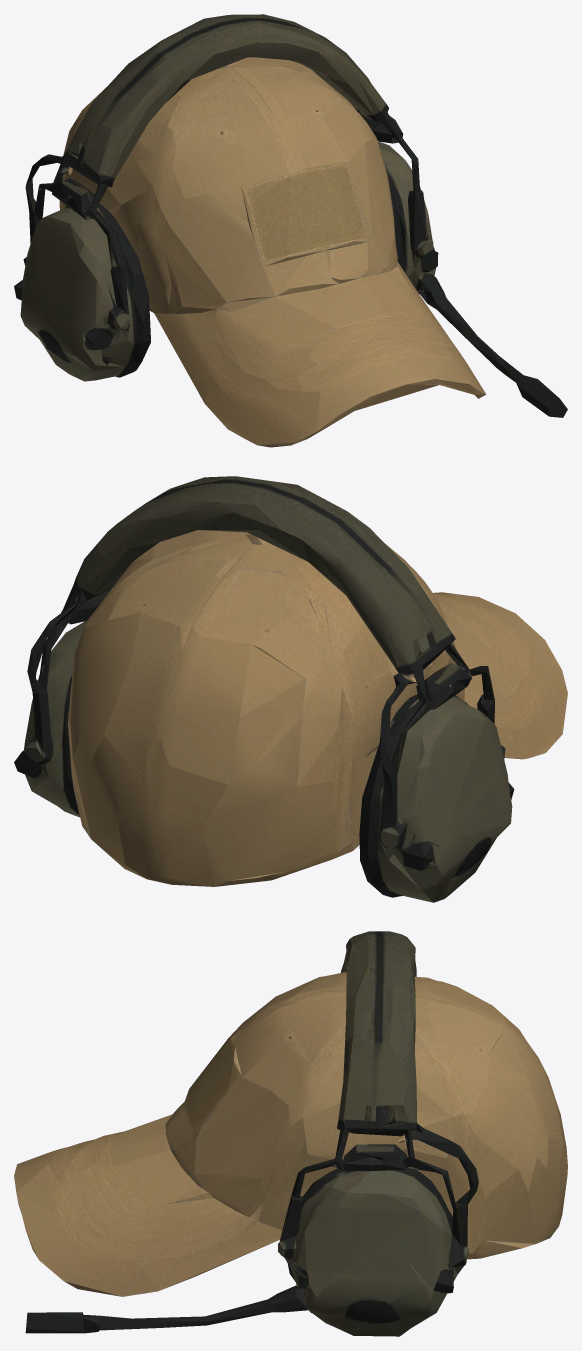
File: pmc_cap.glb
3 views of the same model, one above another, from view 1: azimuth 30°, elevation 25°; view 2: azimuth 150°, elevation 25°; view 3: azimuth 270°, elevation 25° (orthographic). The views are drawn at different scales.
Visible parts, largest first — view 1: pmc_cap; view 2: pmc_cap; view 3: pmc_cap.
Part boxes in pixels (box(x1,y1,x2,y2)): pmc_cap: box(14, 14, 567, 447); pmc_cap: box(14, 476, 567, 902); pmc_cap: box(14, 931, 567, 1336).
Bounding box in the file's own units: 0.2853 × 0.2371 × 0.3769.
1 material, 1 textured.
